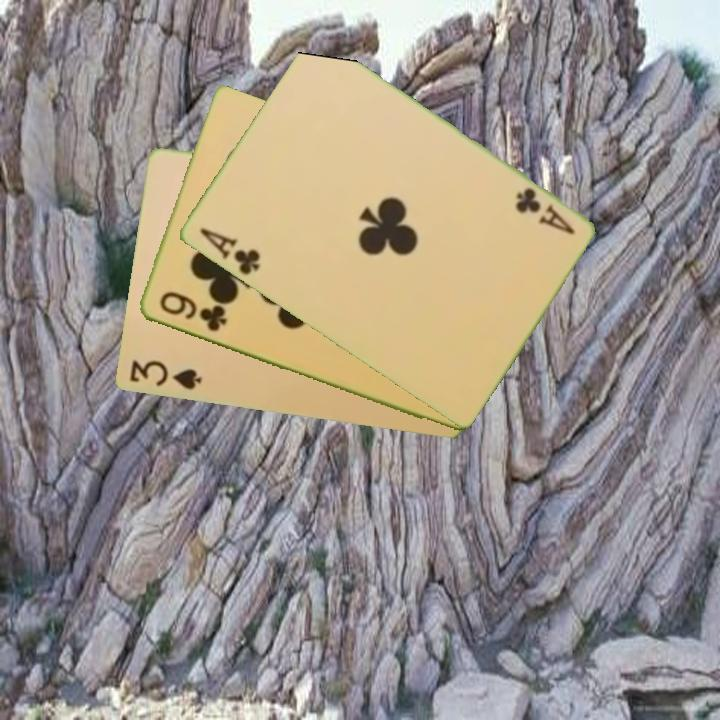3s: (125, 357, 204, 393)
9c: (155, 288, 230, 335)
Ac: (195, 224, 263, 278), (510, 184, 578, 238)
